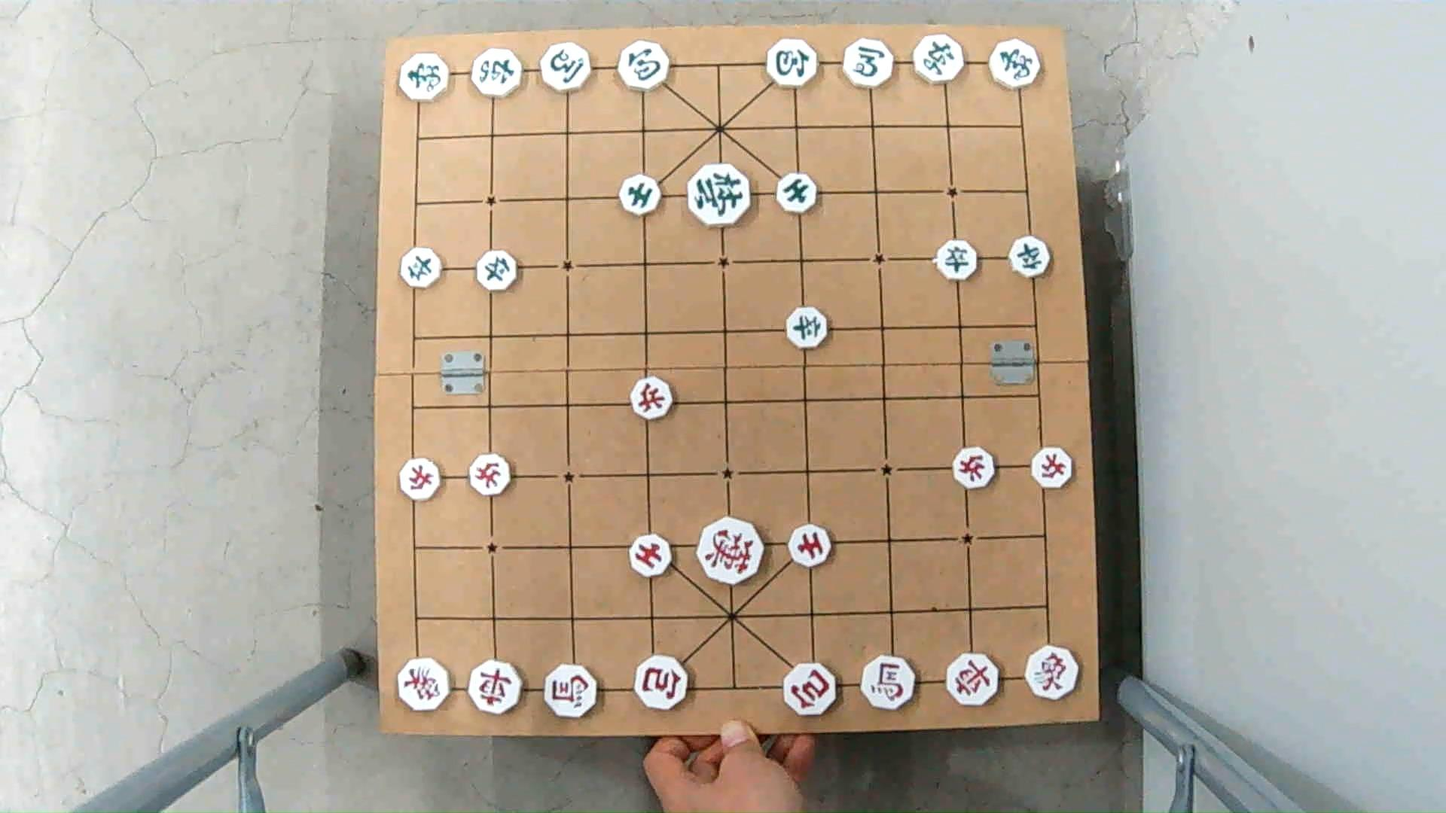cha_green: (469, 49, 524, 98), (910, 38, 966, 84)
cha_red: (466, 663, 525, 714), (943, 655, 1005, 703)
jol_green: (475, 254, 523, 290), (786, 306, 828, 347), (935, 244, 981, 281), (399, 251, 446, 286), (1008, 241, 1053, 277)
jol_red: (396, 461, 446, 499), (466, 456, 517, 492), (948, 449, 997, 486), (1029, 449, 1078, 486), (628, 381, 675, 418)
ma_green: (840, 38, 898, 87), (535, 44, 592, 92)
ma_red: (857, 660, 920, 709), (541, 668, 601, 716)
po_green: (765, 38, 818, 90), (615, 43, 671, 91)
po_red: (631, 656, 691, 706), (779, 665, 841, 713)
sa_green: (615, 174, 664, 215), (775, 175, 819, 212)
sa_red: (785, 528, 834, 567), (626, 537, 676, 575)
sang_green: (397, 53, 452, 101), (987, 41, 1042, 89)
sang_red: (1022, 650, 1083, 699), (396, 660, 455, 708)
wang_green: (685, 166, 755, 227)
wang_red: (695, 522, 767, 582)
